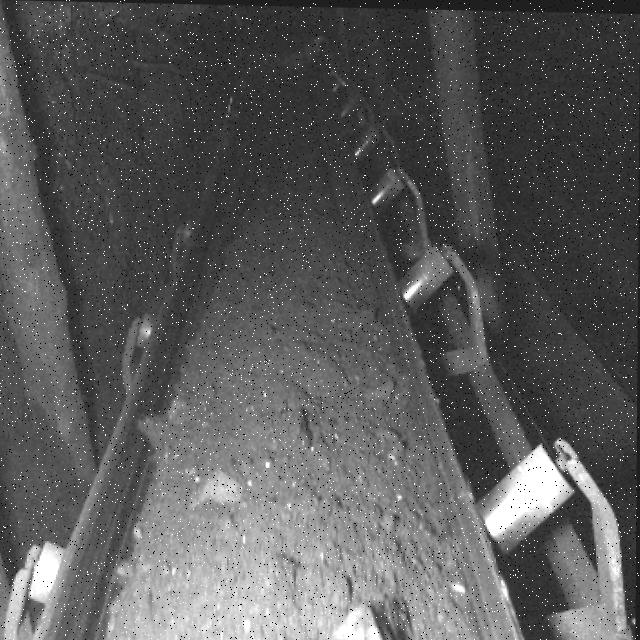large_sized_coal: (329, 600, 439, 640), (190, 467, 248, 517)
